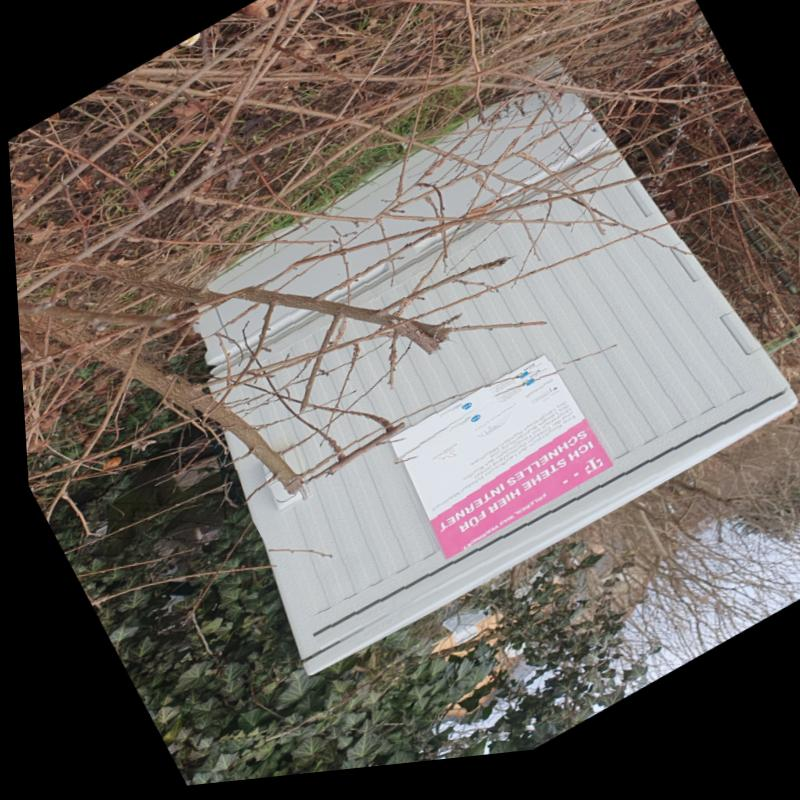NT-Gehause: (192, 115, 786, 658)
Steaker: (395, 374, 607, 569)
